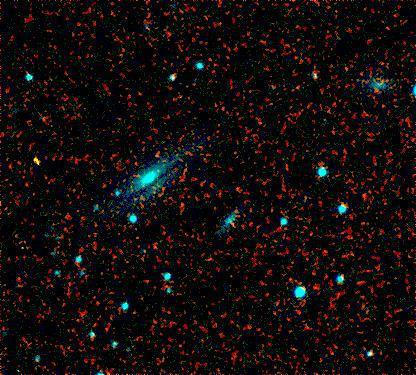star: (24, 149, 54, 179)
